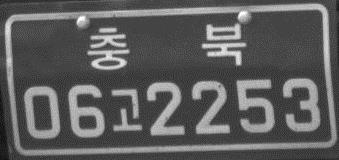0: (22, 84, 61, 141)
2: (191, 78, 230, 135), (145, 81, 185, 136)
3: (281, 76, 322, 133)
5: (235, 76, 277, 135)
6: (66, 82, 106, 139)
고: (109, 84, 143, 134)
충북_D: (85, 21, 247, 74)
